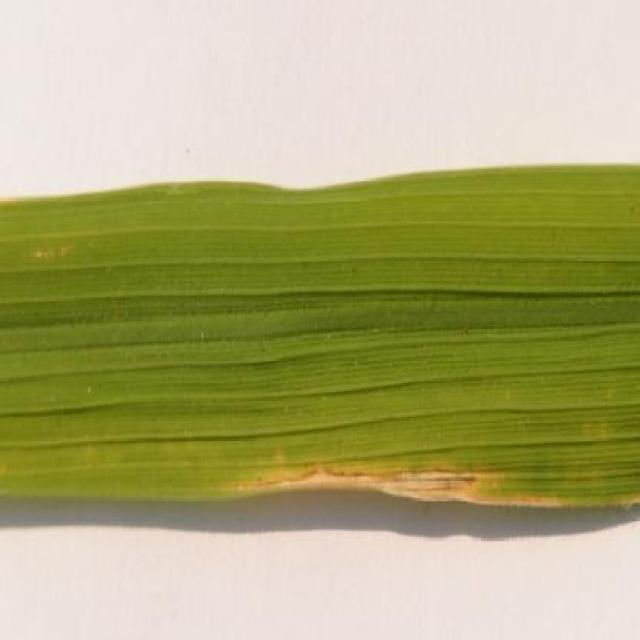Brown_Spot: (0, 162, 640, 526), (227, 375, 565, 562)
